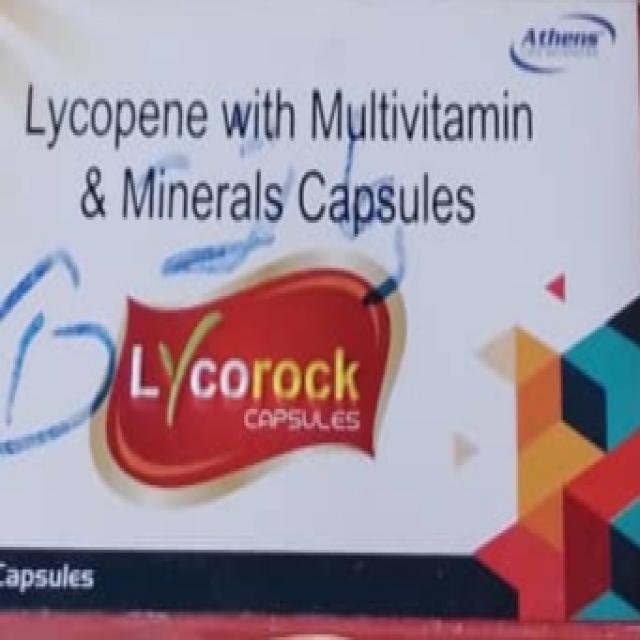drug-name: (129, 309, 366, 439)
